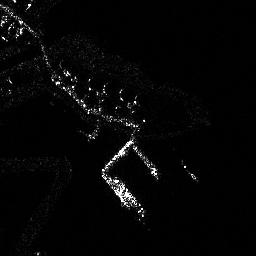ship: (111, 175, 145, 218)
